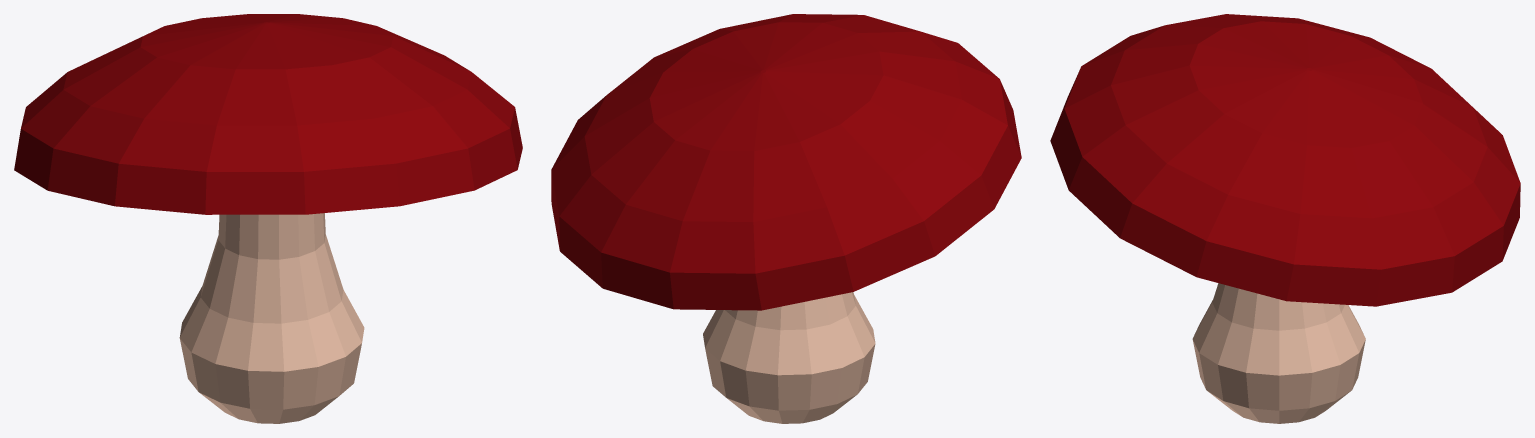
Rendered from Mushroom_002.fbx.
3 renders of one model, left to right at view 1: azimuth 30°, elevation 25°; view 2: azimuth 150°, elevation 25°; view 3: azimuth 270°, elevation 25°, orthographic. The views are drawn at different scales.
Visible parts, largest first — view 1: mushroom_002; view 2: mushroom_002; view 3: mushroom_002.
Part boxes in pixels (x1,y1,x2,y2): mushroom_002: (14, 14, 522, 423); mushroom_002: (551, 14, 1021, 423); mushroom_002: (1050, 14, 1520, 423).
Bounding box in the file's own units: 23.43 × 18.74 × 23.15.
